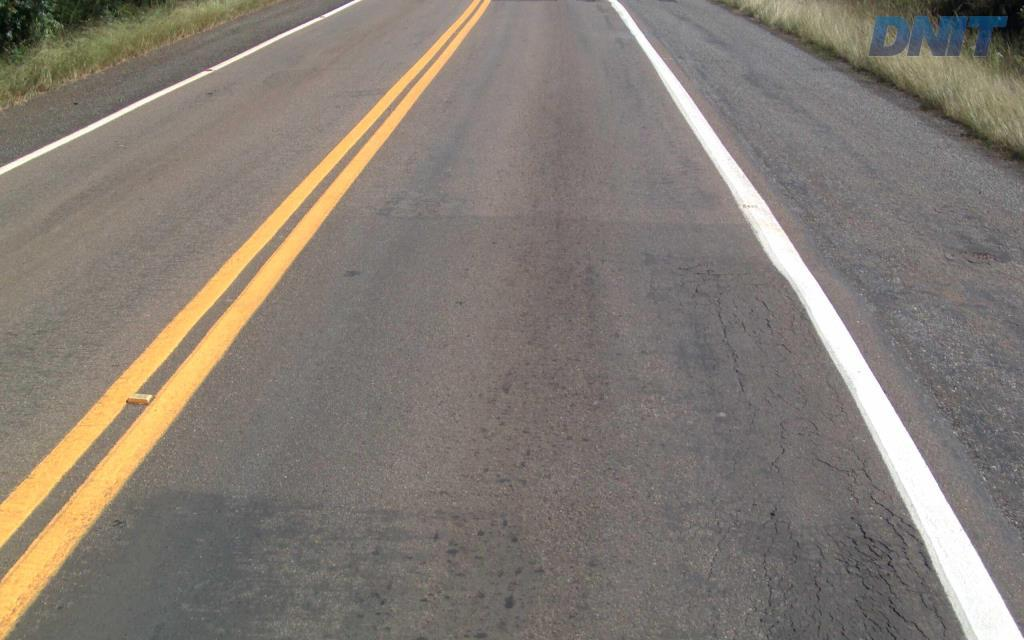crack: (835, 520, 926, 635), (853, 596, 899, 635)
